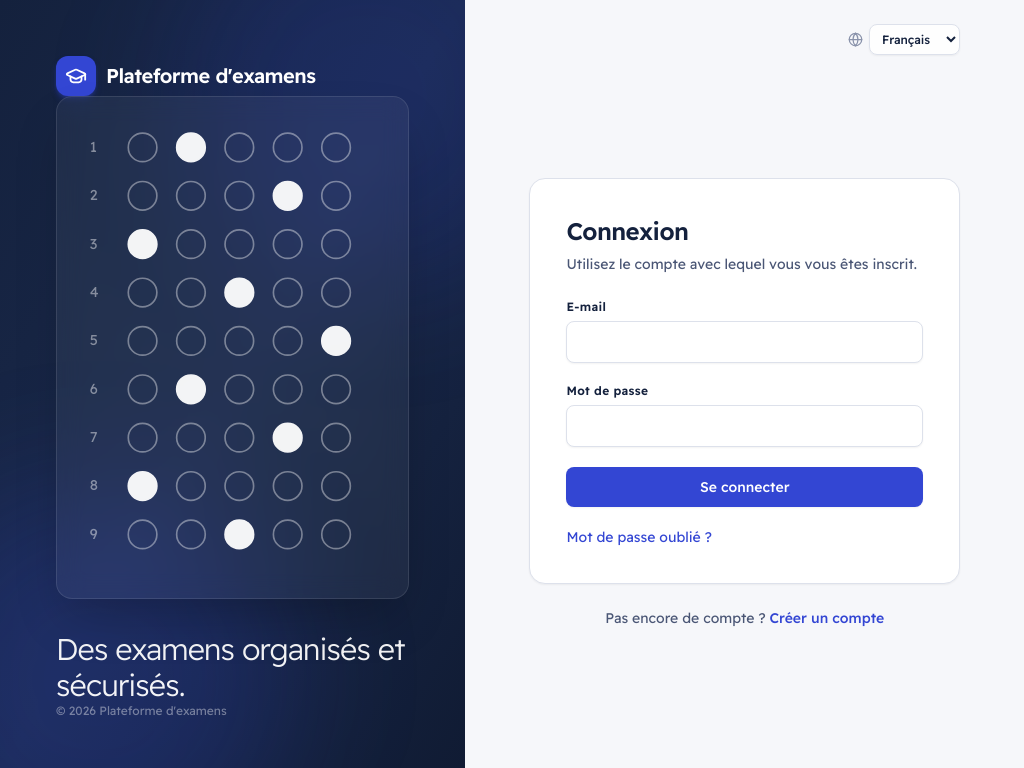
Test case: login › suspended account shows the reason
The width and height of the screenshot is (1024, 768).
Type "a@b.dz" into the field labelled "E-mail" at (745, 342), box [566,321,923,363]
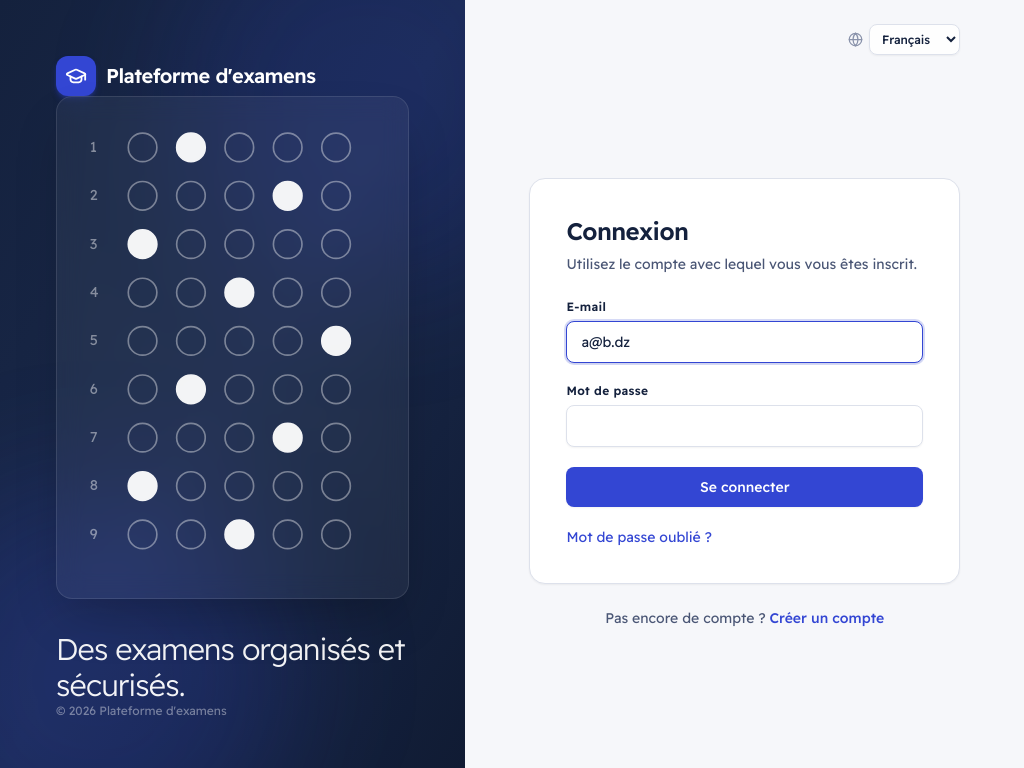
Type "whatever-pass" into the password field labelled "Mot de passe" at (745, 426), box [566,405,923,447]
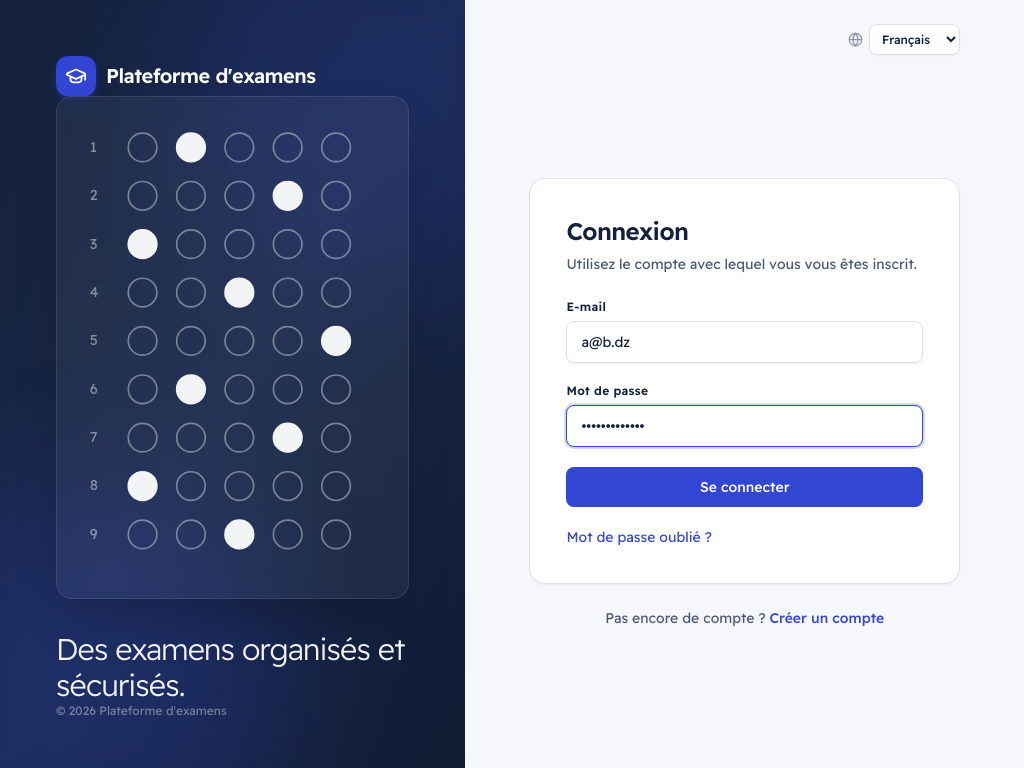
Click the button "Se connecter" at (745, 487), box [566,467,923,507]
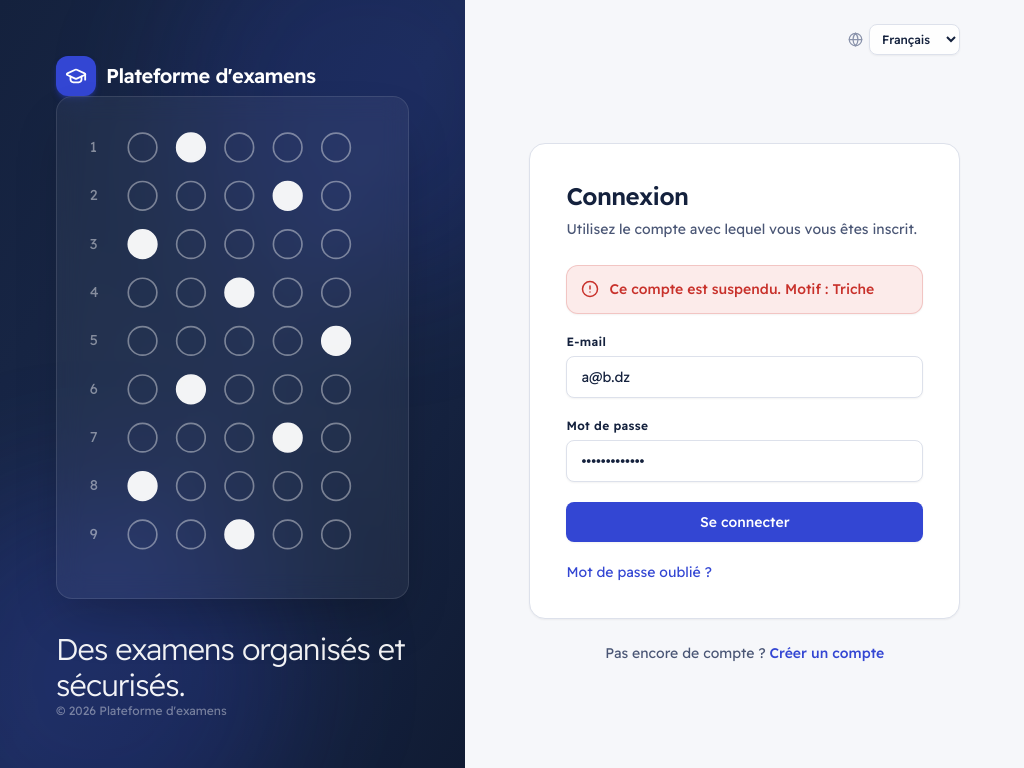
Result: the message shows "Motif : Triche" at [610,280,874,298]
